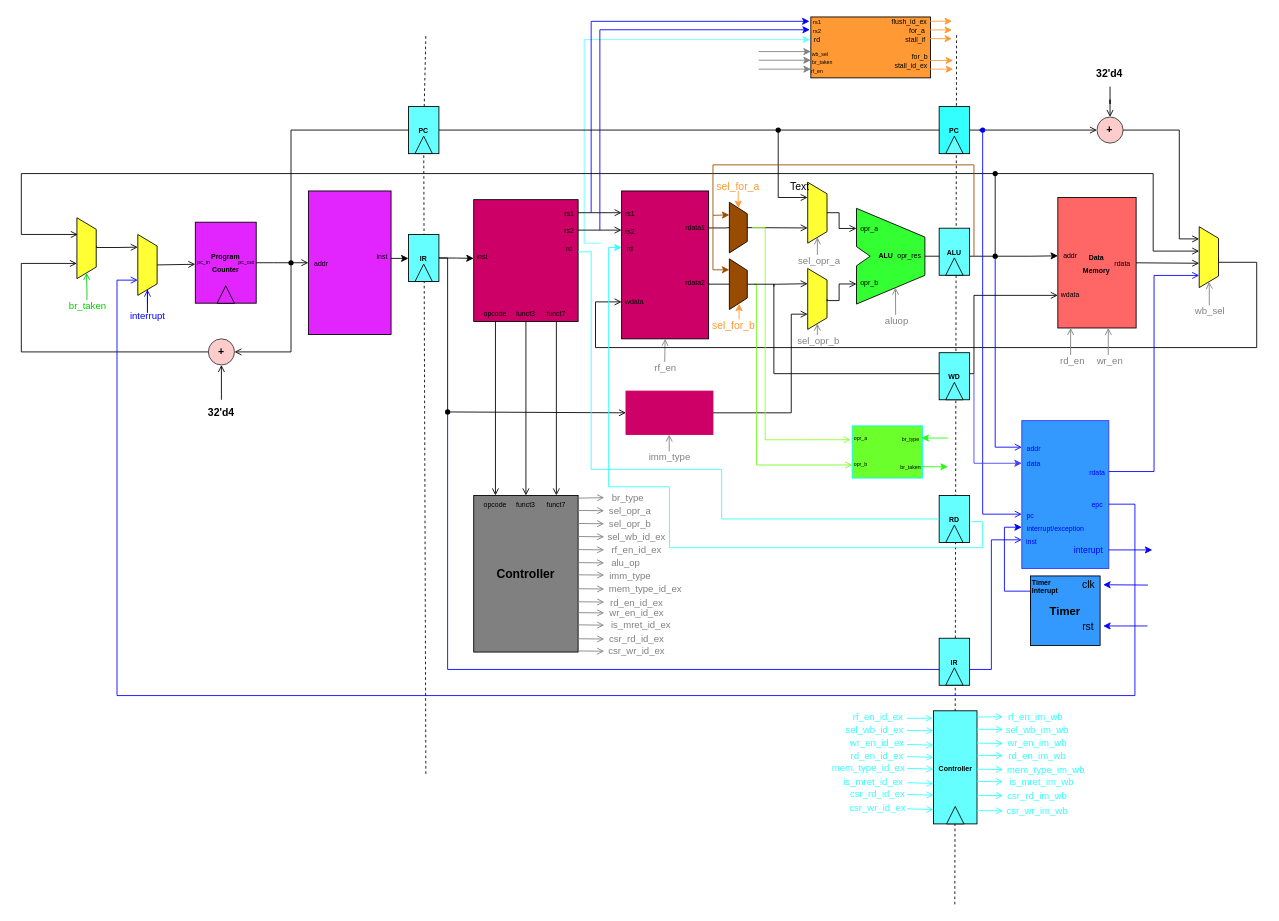
Some shapes in this 1279 by 921 pixel diagram are drawn without their labels. Here are the shapes that lost their labels. From the top down, the box of each, then its label:
(810, 16, 930, 78): Hazard detection Unit
(308, 190, 391, 335): Instruction Memory
(473, 199, 578, 321): Instruction Decoder
(621, 190, 709, 339): Register File
(625, 390, 713, 435): Immediate Generator
(851, 425, 922, 478): Branch Comparator
(1021, 420, 1109, 569): CSR Register File
